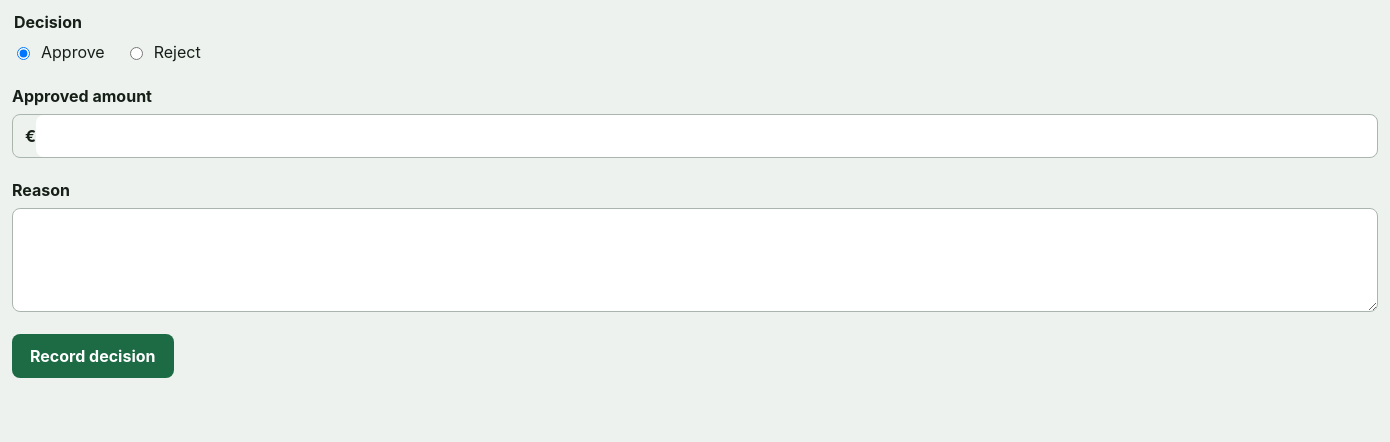
it: DecisionForm › blocks amounts with more than two decimal places
Step 1. Type "12.345" into the field labelled "Approved amount €" → (706, 136), box [36,115,1377,157]
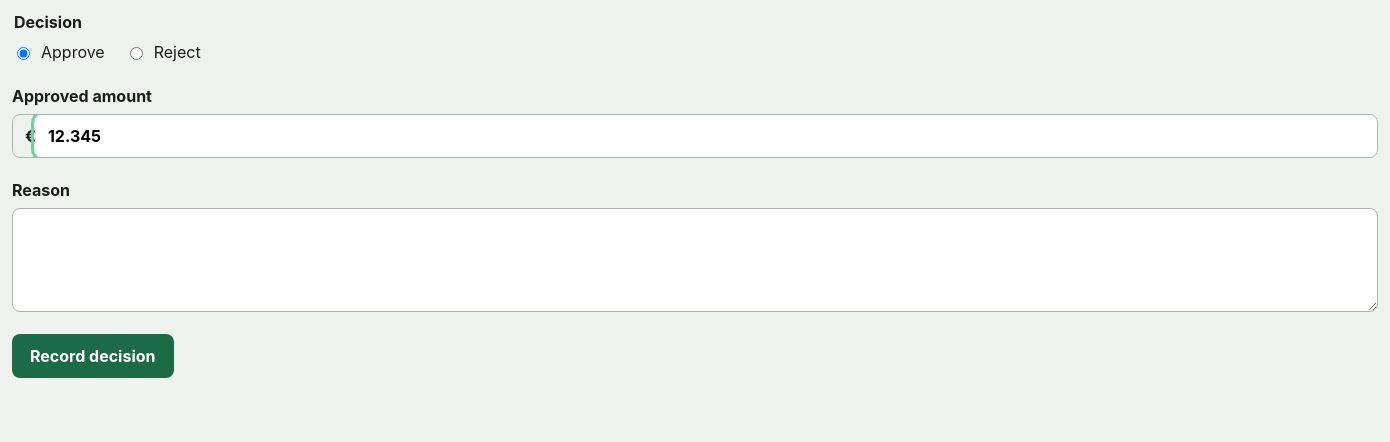
Step 2. Type "Too precise" into the text box labelled "Reason" → (695, 260), box [12,208,1378,312]
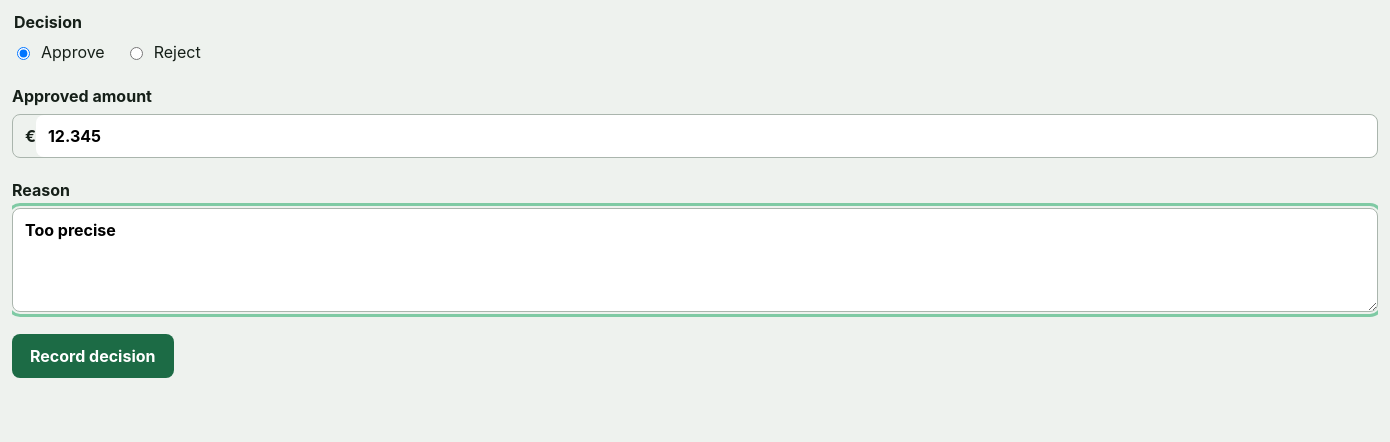
Step 3. Click the button "Record decision" → (93, 356), box [12,334,174,378]
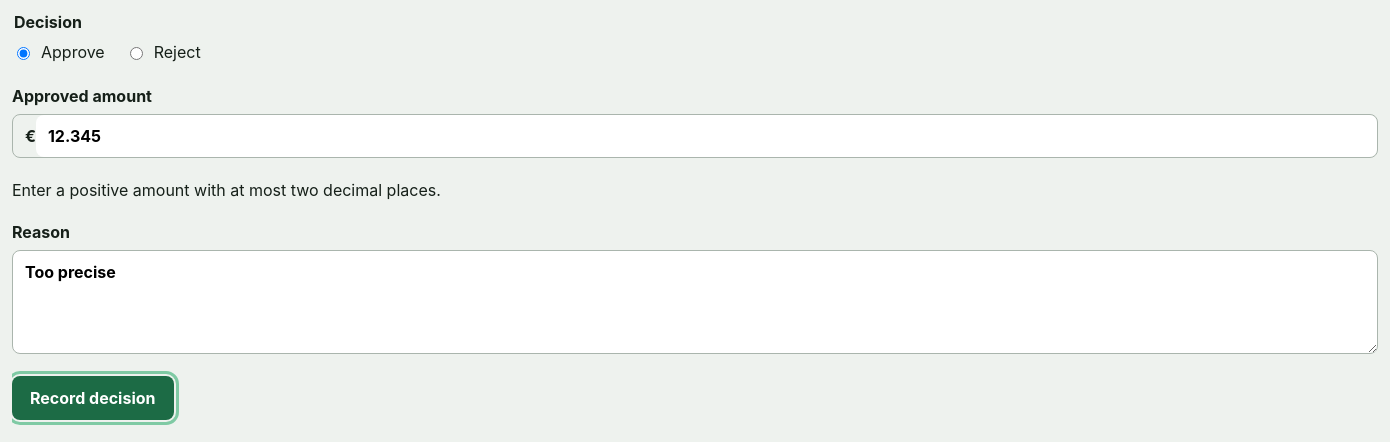
Result: the message shows "two decimal places" at [12,180,441,200]
